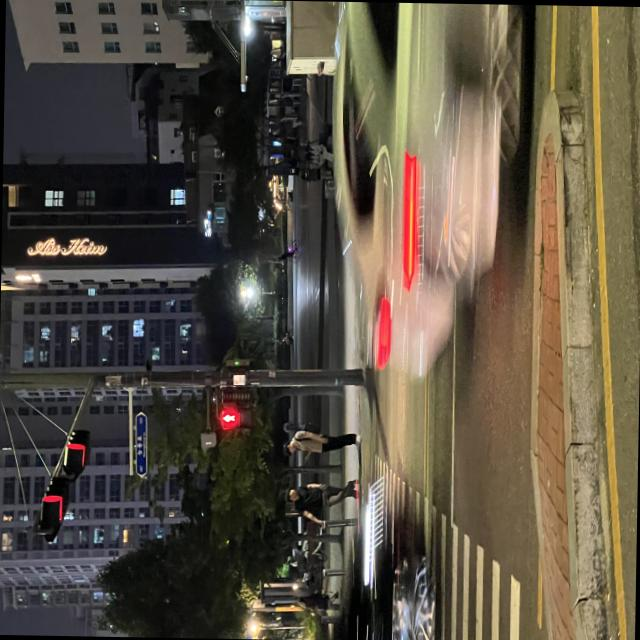red_light: (216, 381, 265, 434)
zebra: (345, 441, 541, 640)
